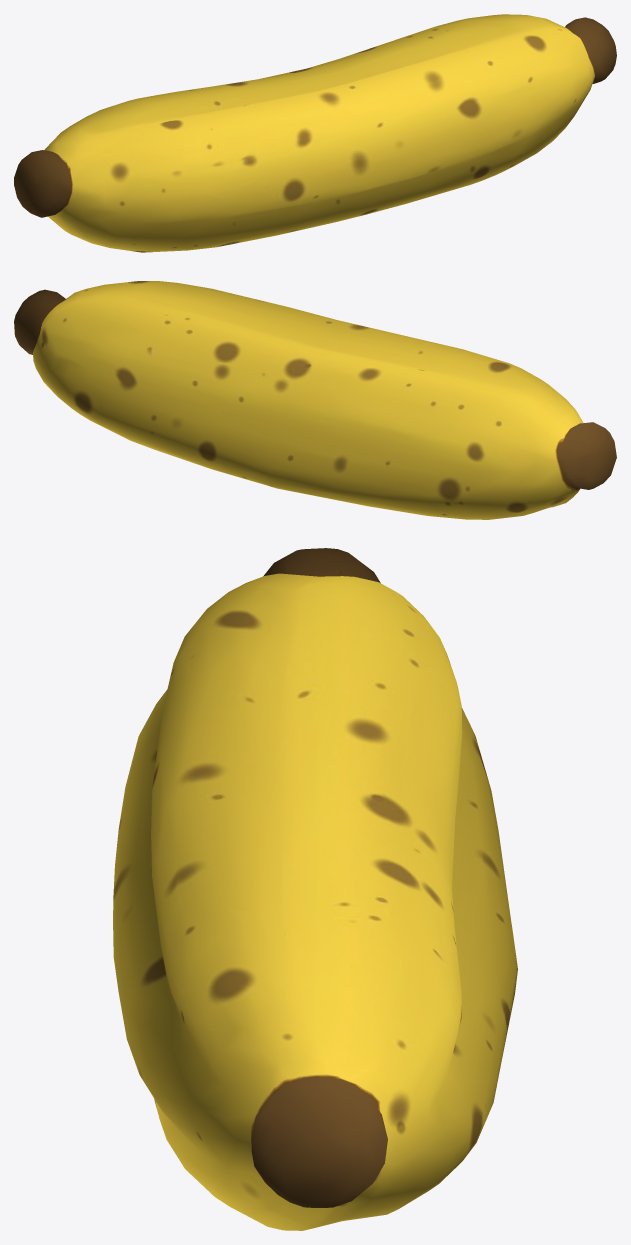
Rendered from nana.glb.
3 renders of one model, top to bottom at view 1: azimuth 30°, elevation 25°; view 2: azimuth 150°, elevation 25°; view 3: azimuth 270°, elevation 25°, orthographic. The views are drawn at different scales.
Parts seen in each view (by area): view 1: tripo_node_7a57666f-5a66-4cfe-96dc-02a92176f5c3; view 2: tripo_node_7a57666f-5a66-4cfe-96dc-02a92176f5c3; view 3: tripo_node_7a57666f-5a66-4cfe-96dc-02a92176f5c3.
Boxes of the visible parts, x1,y1,x2,y2 form: tripo_node_7a57666f-5a66-4cfe-96dc-02a92176f5c3: [14, 14, 616, 252]; tripo_node_7a57666f-5a66-4cfe-96dc-02a92176f5c3: [14, 281, 616, 519]; tripo_node_7a57666f-5a66-4cfe-96dc-02a92176f5c3: [113, 548, 517, 1230].
Size of the model in its own units: 0.9812 by 0.2132 by 0.2911.
1 material, 1 textured.
